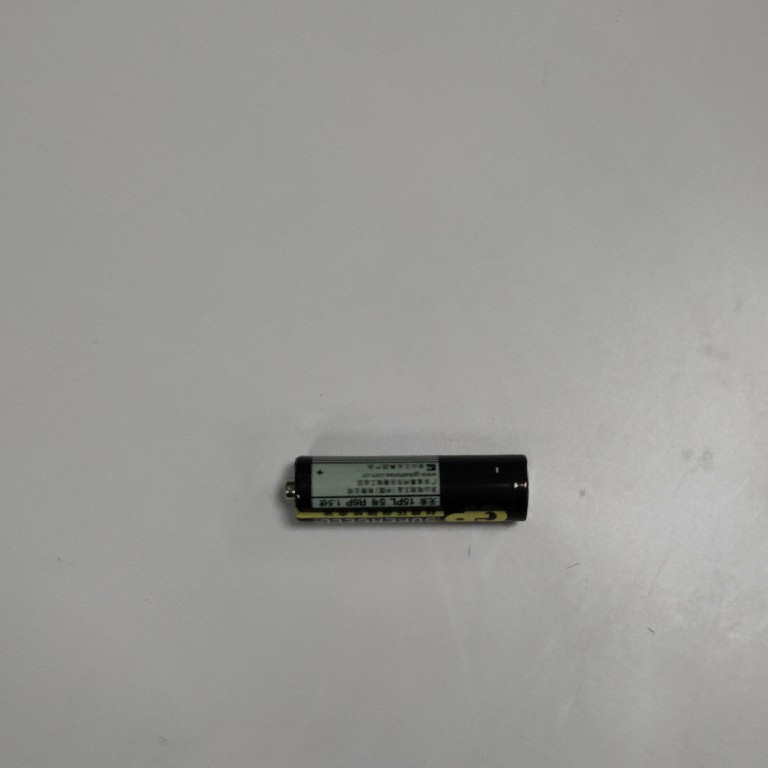charge: (277, 451, 533, 526)
